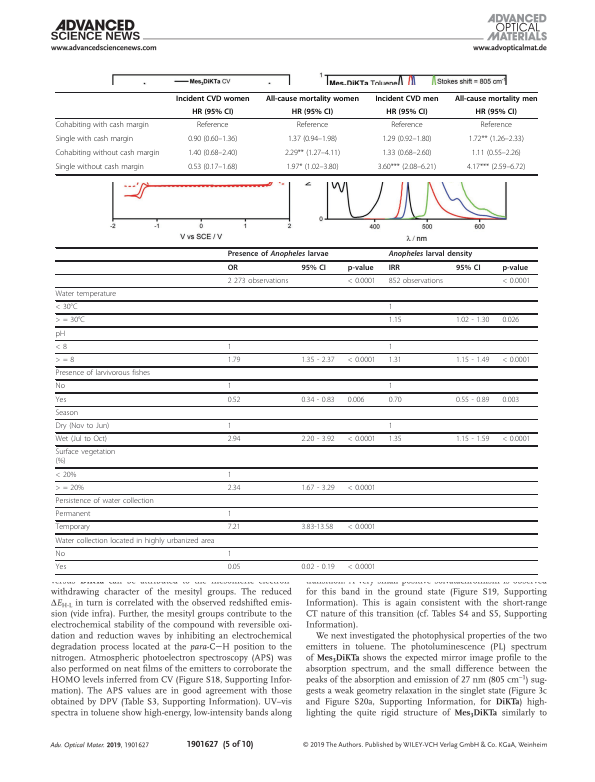borderless: (54, 246, 538, 574), (54, 90, 537, 174)
cell: (55, 536, 215, 546), (55, 448, 116, 466), (54, 148, 160, 158), (54, 120, 150, 130), (227, 250, 329, 259), (55, 162, 145, 172), (55, 497, 155, 506), (55, 369, 151, 378), (265, 94, 360, 103), (54, 134, 134, 144), (388, 250, 473, 259), (454, 94, 538, 103), (175, 94, 250, 103), (227, 276, 289, 286), (377, 162, 437, 172), (466, 162, 526, 172), (374, 94, 439, 103), (468, 134, 525, 144), (284, 148, 341, 158), (388, 276, 444, 286), (55, 290, 117, 299), (285, 162, 339, 172), (187, 134, 238, 144), (287, 134, 338, 144), (381, 134, 432, 144), (187, 148, 238, 158), (381, 148, 432, 158), (471, 148, 522, 158), (187, 162, 238, 172), (55, 422, 110, 431), (55, 435, 108, 444), (191, 107, 234, 117), (291, 107, 334, 117), (385, 107, 428, 117), (475, 107, 518, 117), (300, 395, 336, 405), (300, 483, 336, 493), (300, 562, 336, 572), (455, 395, 490, 405), (390, 120, 424, 130), (479, 120, 513, 130), (196, 120, 229, 130), (296, 120, 329, 130), (300, 356, 336, 365), (300, 435, 336, 444), (55, 510, 91, 519), (55, 523, 91, 532), (455, 316, 490, 325), (455, 356, 490, 365), (455, 435, 490, 444), (300, 523, 334, 532), (347, 276, 377, 286), (501, 276, 531, 286), (55, 483, 85, 493), (347, 483, 377, 493), (347, 562, 377, 572), (501, 263, 529, 273), (55, 316, 86, 325), (300, 263, 327, 273), (347, 263, 374, 273), (347, 356, 377, 365), (501, 356, 531, 365), (347, 435, 377, 444), (501, 435, 531, 444), (347, 523, 377, 532), (455, 263, 481, 273), (55, 408, 79, 418), (55, 470, 77, 480), (55, 303, 78, 312), (501, 395, 520, 405), (55, 356, 75, 365), (347, 395, 365, 405), (501, 316, 520, 325), (227, 395, 241, 405), (388, 395, 402, 405), (227, 483, 241, 493), (227, 562, 241, 572), (388, 263, 401, 273), (55, 342, 68, 352), (388, 316, 402, 325), (227, 356, 241, 365), (388, 356, 402, 365), (227, 435, 241, 444), (388, 435, 402, 444), (227, 523, 241, 532), (227, 263, 239, 273), (55, 395, 67, 405), (55, 562, 67, 572), (55, 329, 66, 339), (55, 549, 66, 559), (55, 382, 66, 391), (388, 342, 394, 352), (388, 303, 394, 312), (388, 382, 394, 391), (388, 422, 394, 431), (227, 342, 232, 352), (227, 470, 232, 480), (227, 549, 232, 559), (227, 382, 232, 391), (227, 422, 232, 431), (227, 510, 232, 519)
